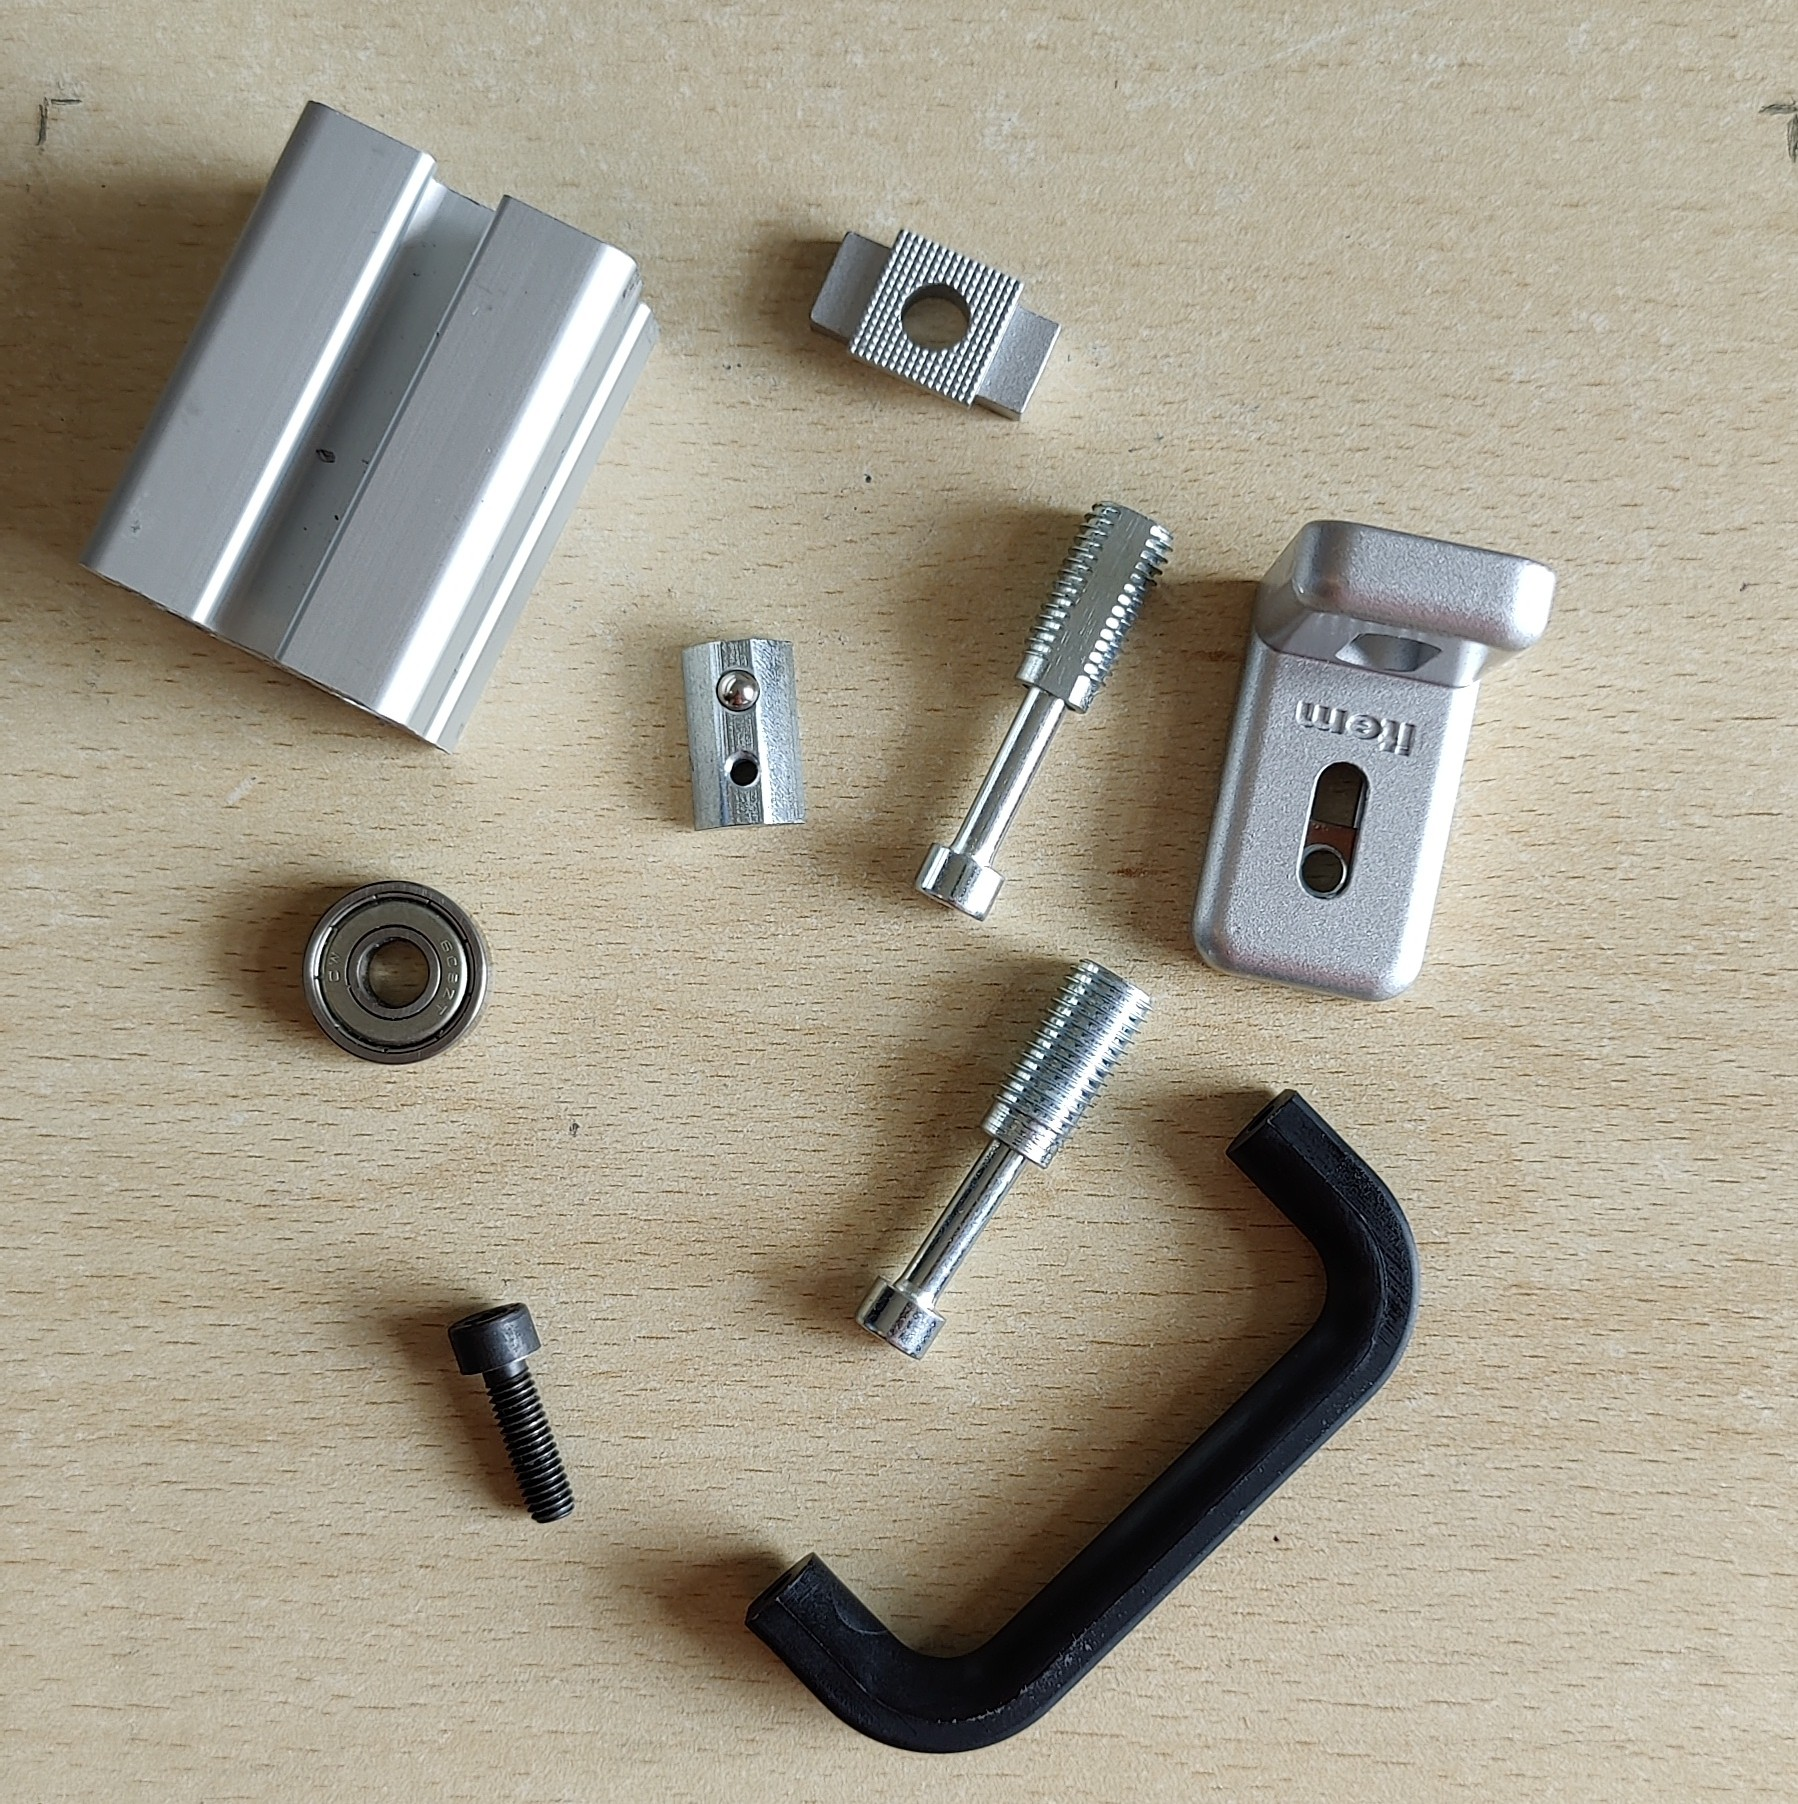Aluminium Extension: (77, 92, 665, 759)
Ball Bearing: (298, 876, 496, 1067)
Multiwinkel: (1189, 515, 1561, 1002)
Pull Handle: (741, 1086, 1424, 1755)
Shoulder Socket Head Cap Screw: (848, 951, 1158, 1361), (911, 499, 1177, 927)
Socket Head Cap Screw: (446, 1304, 578, 1527)
T Nut Square: (807, 227, 1067, 426)
T Spring Nut: (673, 634, 807, 835)
